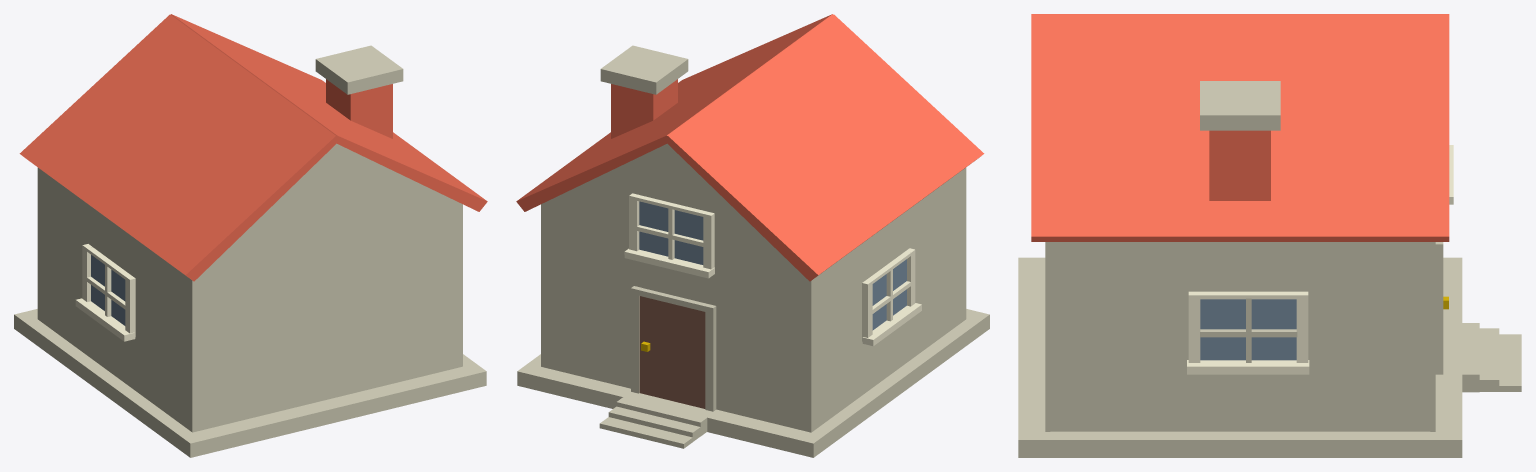
Rendered from Basic House FBX.fbx.
The picture shows the model from 3 angles, left to right: view 1: azimuth 30°, elevation 25°; view 2: azimuth 150°, elevation 25°; view 3: azimuth 270°, elevation 25°; orthographic projection. The views are drawn at different scales.
Visible parts, largest first — view 1: pCube5; view 2: pCube5; view 3: pCube5.
Boxes of the visible parts, x1,y1,x2,y2 form: pCube5: (14,14,487,457); pCube5: (516,14,989,457); pCube5: (1018,14,1521,457).
Size of the model in its own units: 7.12 by 6.34 by 8.15.
